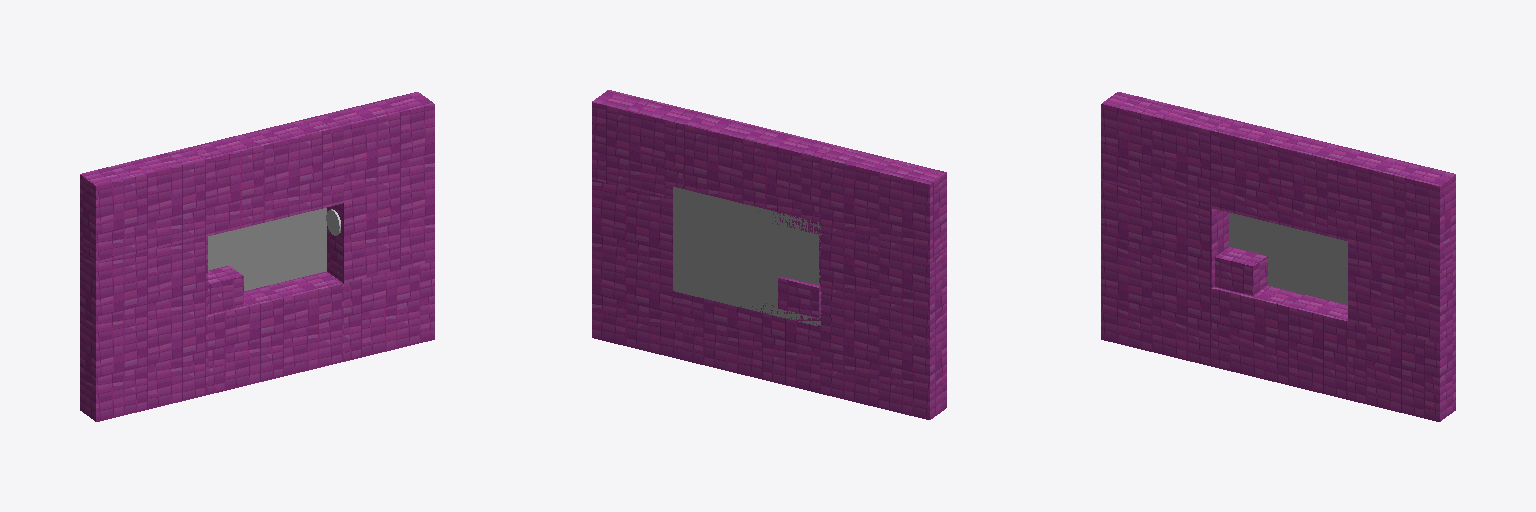
3 renders of one model, left to right at view 1: azimuth 30°, elevation 25°; view 2: azimuth 150°, elevation 25°; view 3: azimuth 330°, elevation 25°, orthographic.
Visible parts, largest first — view 1: Cube, Plane, Cube.001; view 2: Cube, Plane, Cube.001; view 3: Cube, Plane, Cube.001.
Boxes of the visible parts, x1,y1,x2,y2 form: Cube: [80, 92, 434, 421]; Plane: [208, 208, 326, 290]; Cube.001: [208, 266, 243, 313]; Cube: [592, 90, 946, 419]; Plane: [673, 187, 821, 325]; Cube.001: [778, 276, 820, 317]; Cube: [1101, 92, 1455, 421]; Plane: [1229, 212, 1347, 304]; Cube.001: [1215, 247, 1267, 295].
Size of the model in its own units: 34.76 by 23.16 by 3.43.
Materials: 3 (1 with a texture image).